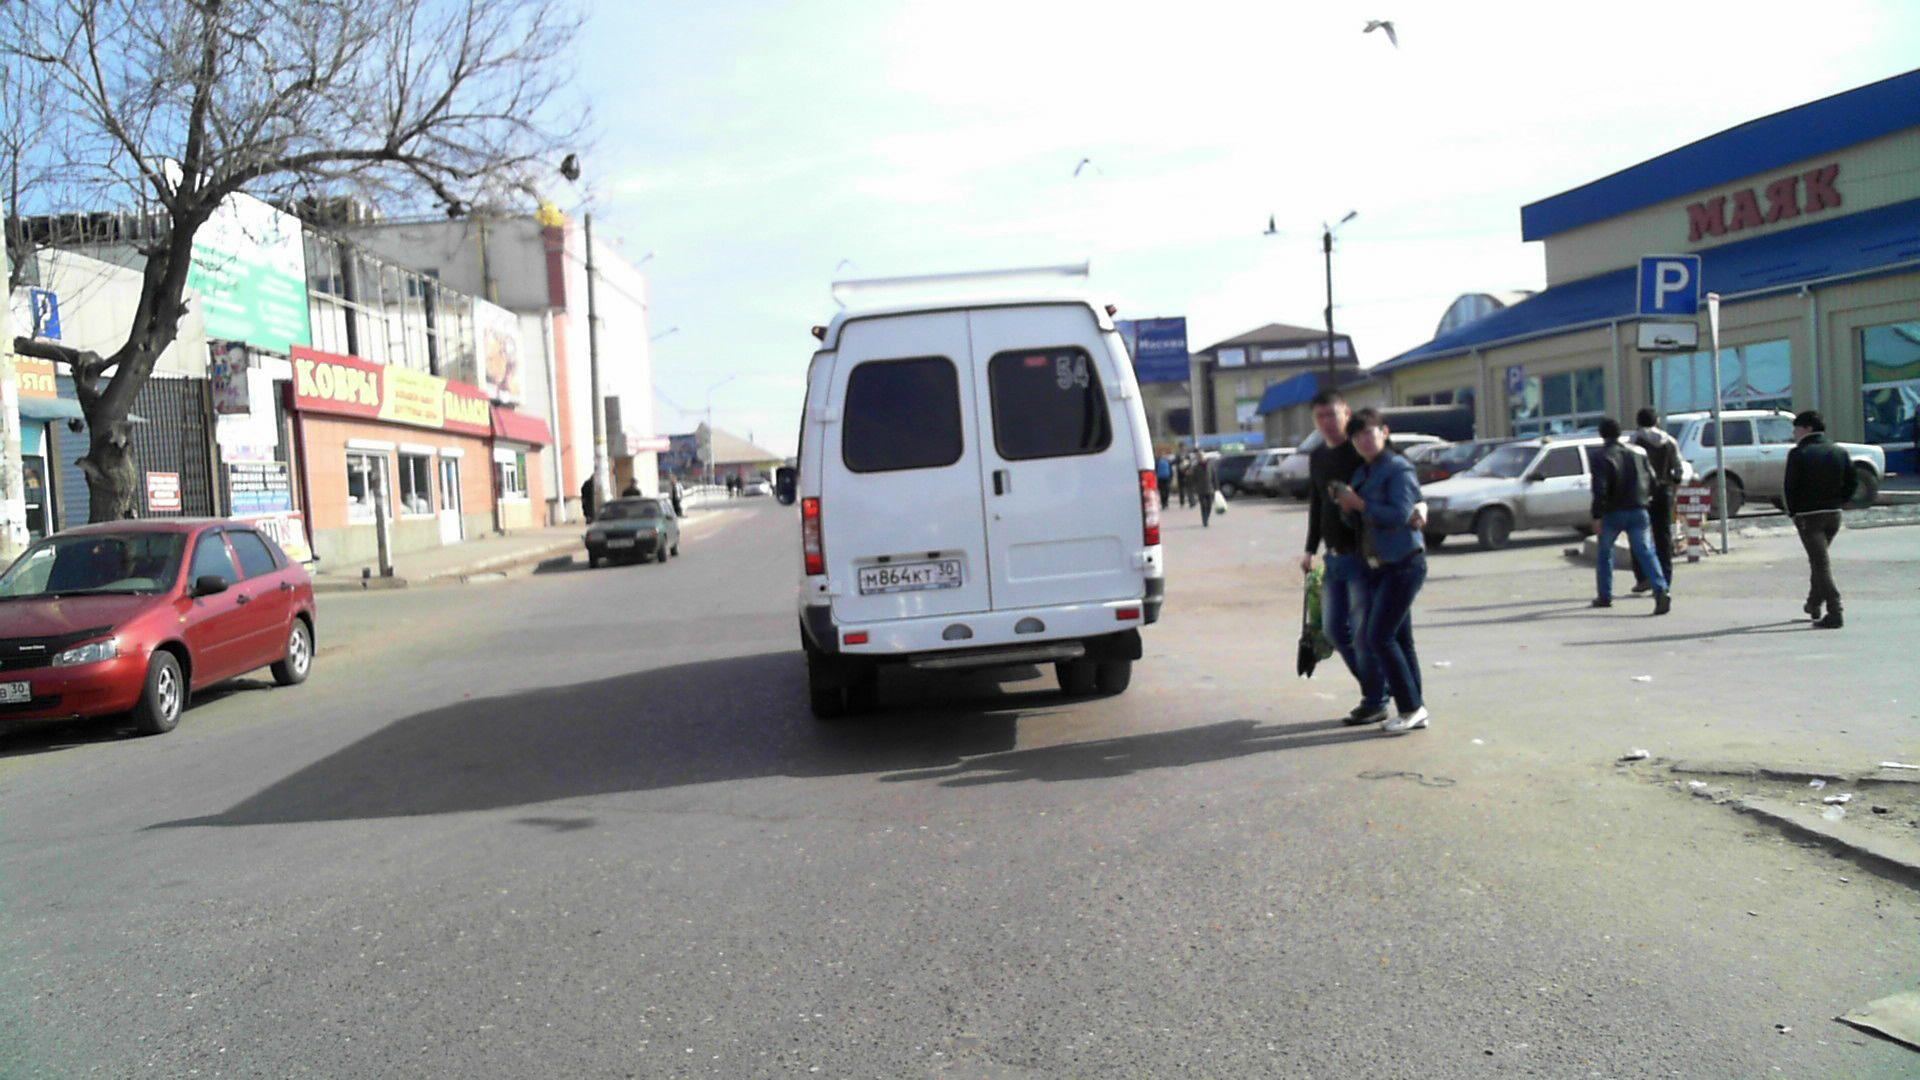6_4: (1634, 252, 1704, 316), (32, 294, 66, 330)
8_6_5: (1636, 320, 1698, 353)
